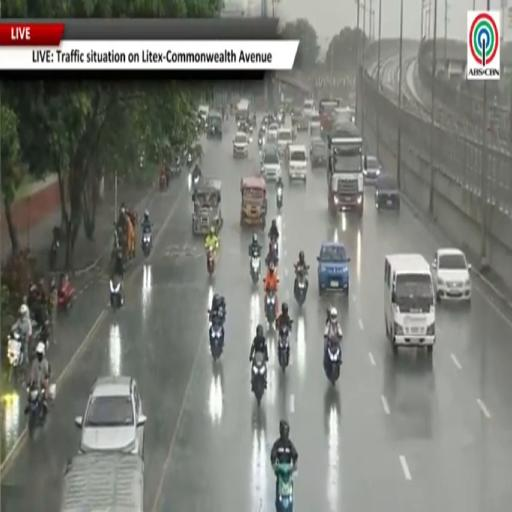car: (75, 376, 146, 457), (432, 248, 471, 301), (317, 242, 350, 295), (375, 174, 400, 211), (286, 144, 307, 182), (261, 144, 281, 181), (310, 138, 327, 168), (363, 155, 381, 183), (277, 127, 293, 155), (233, 132, 249, 157), (292, 108, 308, 132), (267, 121, 278, 141), (303, 100, 314, 118)
jeepney: (60, 453, 143, 511), (192, 179, 223, 234), (241, 176, 267, 228), (207, 111, 222, 138)
motorcycle: (274, 462, 294, 511), (7, 329, 25, 382), (26, 388, 47, 433), (252, 352, 266, 405), (324, 343, 341, 385), (209, 319, 224, 360), (57, 280, 75, 312), (278, 326, 290, 371), (294, 272, 308, 306), (110, 279, 123, 311), (265, 291, 276, 326), (250, 250, 261, 284), (49, 238, 59, 271), (206, 248, 215, 276), (142, 232, 152, 257), (266, 249, 278, 266), (270, 239, 278, 264), (159, 173, 168, 190), (276, 187, 282, 210), (192, 174, 200, 188), (186, 152, 193, 167), (258, 135, 263, 148)
truck: (328, 121, 363, 217), (318, 98, 340, 139)
